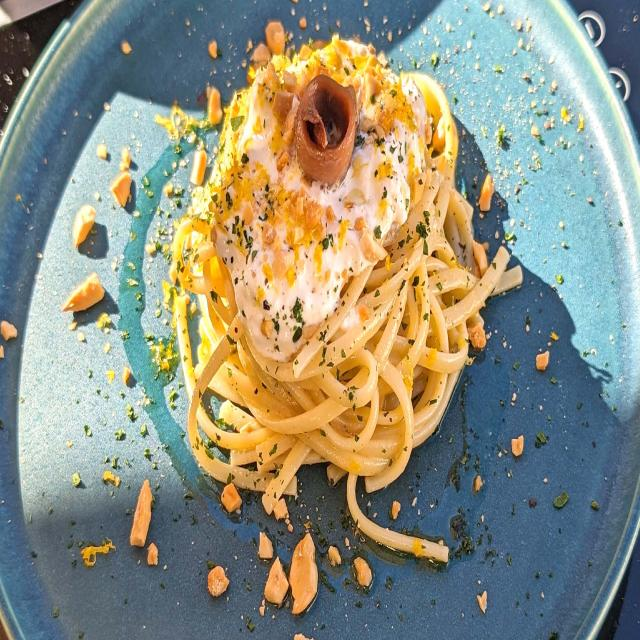pasta: (136, 19, 541, 601)
